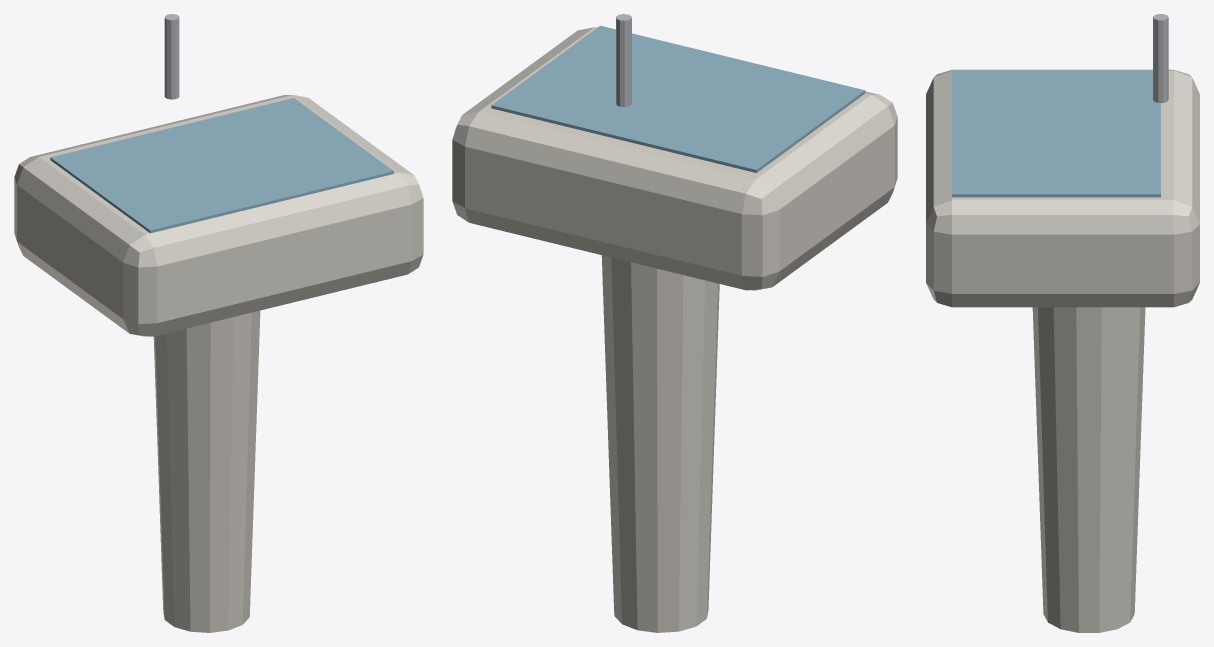
The model's file is hh_pedestal_sink.glb.
The picture shows the model from 3 angles, left to right: view 1: azimuth 30°, elevation 25°; view 2: azimuth 150°, elevation 25°; view 3: azimuth 270°, elevation 25°; orthographic projection. The views are drawn at different scales.
Parts seen in each view (by area): view 1: basin, pedestal, water, tap; view 2: basin, pedestal, water, tap; view 3: basin, pedestal, water, tap.
Boxes of the visible parts, box(x1,y1,x2,y2) form: basin: box(14, 95, 423, 336); pedestal: box(153, 310, 260, 632); water: box(50, 98, 393, 233); tap: box(164, 14, 179, 99); basin: box(452, 27, 897, 290); pedestal: box(601, 255, 719, 632); water: box(491, 25, 865, 172); tap: box(616, 14, 631, 107); basin: box(926, 69, 1199, 307); pedestal: box(1032, 307, 1145, 632); water: box(952, 70, 1160, 197); tap: box(1153, 14, 1168, 102).
Bounding box in the file's own units: 0.55 × 1.01 × 0.42.
